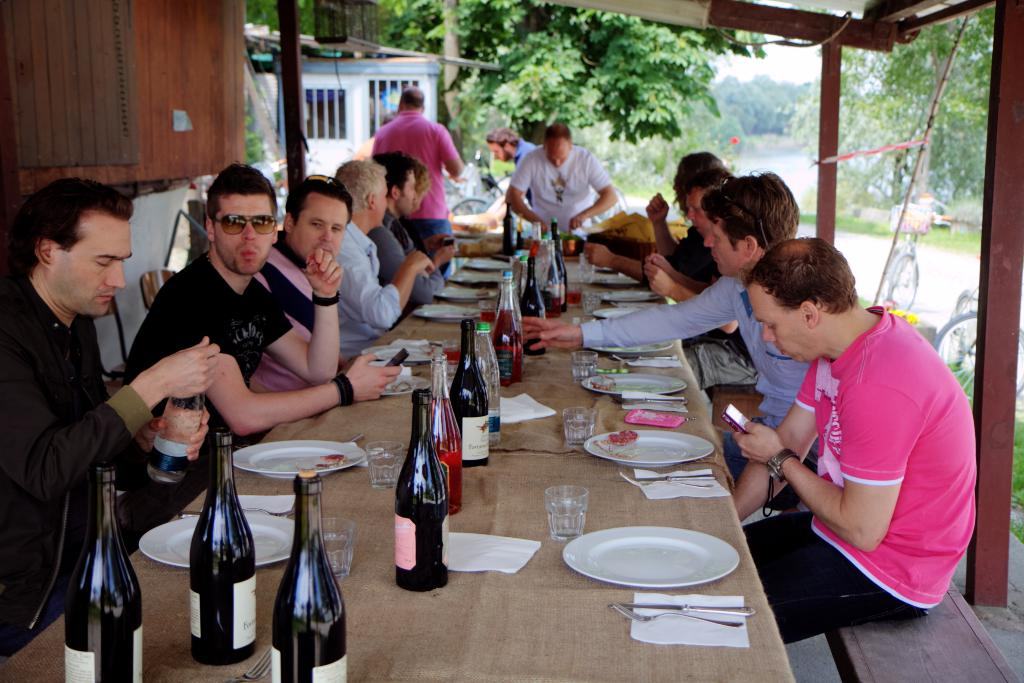plate: (553, 518, 736, 590), (237, 424, 357, 479), (584, 422, 717, 466), (578, 372, 687, 403), (592, 330, 680, 362), (369, 333, 447, 364), (371, 364, 428, 394), (592, 287, 661, 305), (465, 256, 503, 269)
